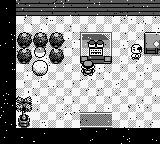leer: (89, 48, 103, 56)
main: (81, 61, 95, 75)
mo: (31, 60, 48, 76)
no-caminable: (1, 0, 160, 143), (16, 0, 160, 16), (80, 32, 112, 56), (16, 97, 32, 128), (144, 33, 160, 53), (80, 56, 111, 64)
npc: (130, 45, 142, 59)
poke-ball: (34, 47, 46, 57)
puerta: (76, 110, 115, 128)
